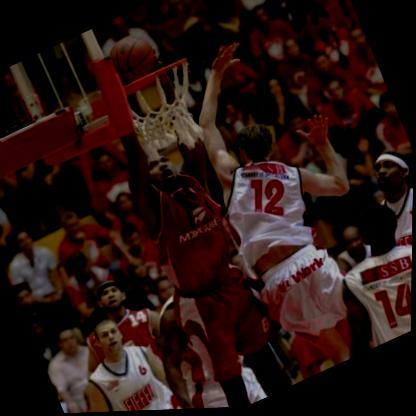basketball: (104, 27, 163, 88)
rim: (119, 55, 192, 98)
